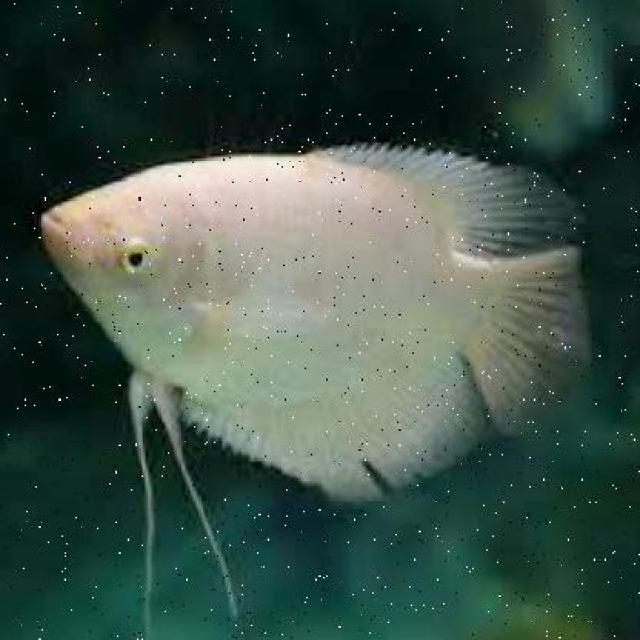gurame: (36, 147, 582, 506)
